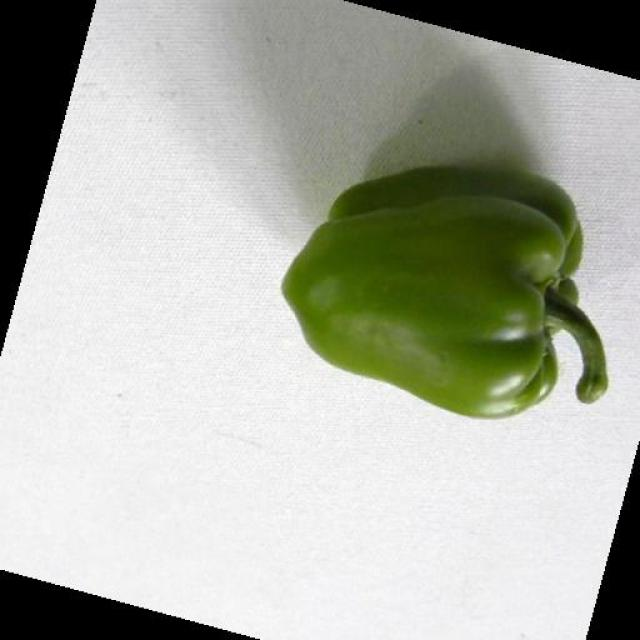Fresh_Capsicum: (278, 173, 586, 408)
